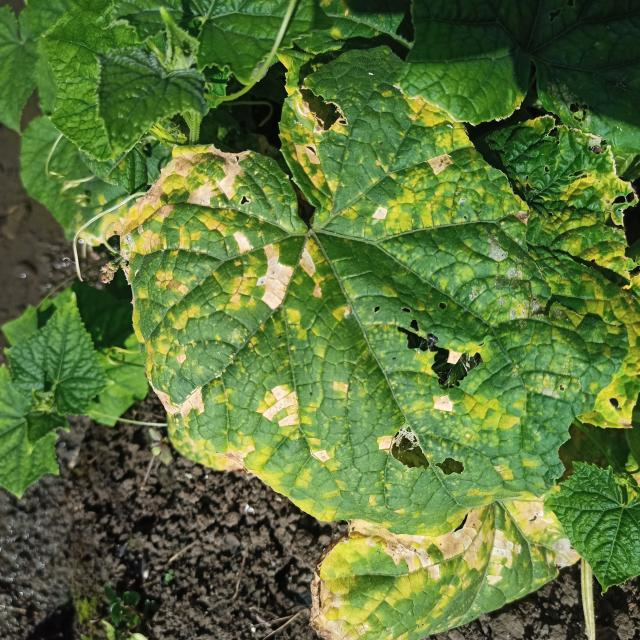disease_cucumber: (121, 89, 640, 512), (315, 489, 578, 634)
